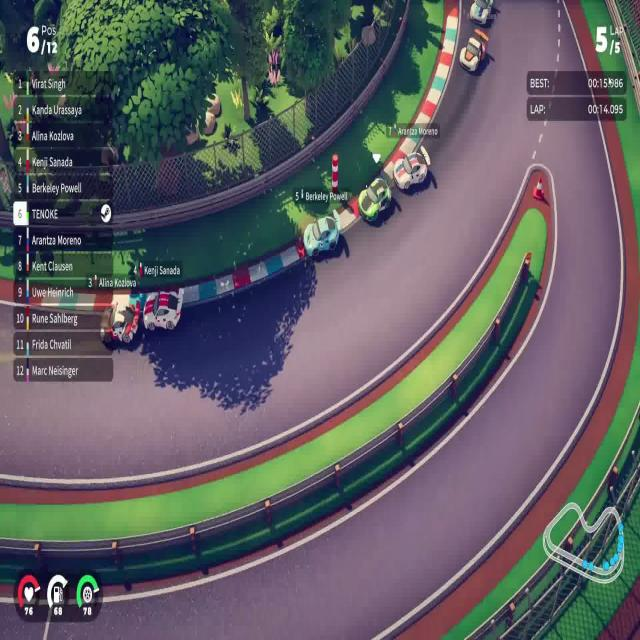car: (142, 286, 184, 334), (99, 298, 140, 346), (303, 208, 341, 258), (357, 174, 392, 224), (392, 150, 428, 192)
